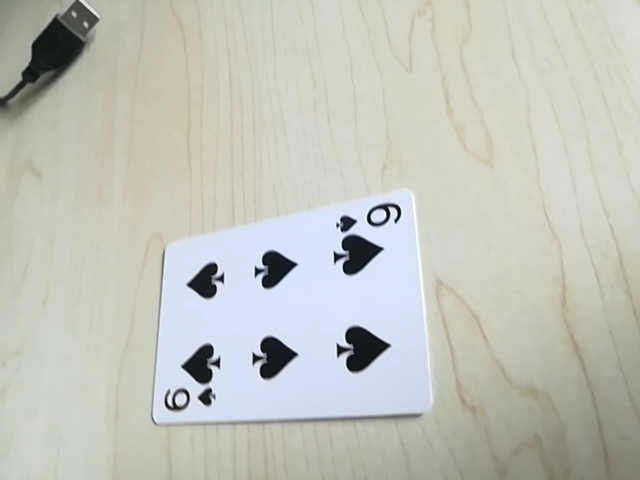ht 6: (334, 197, 405, 233), (156, 385, 221, 420)
